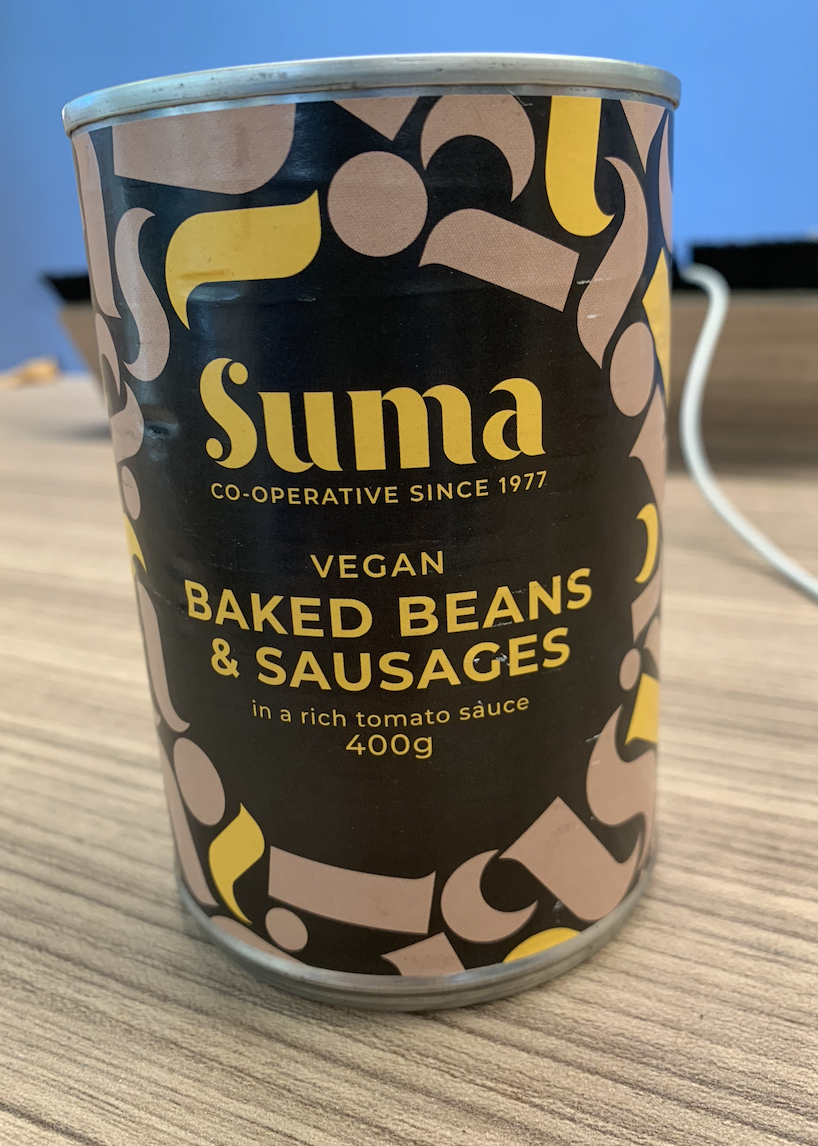Baked beans_450g: (163, 146, 647, 915)
